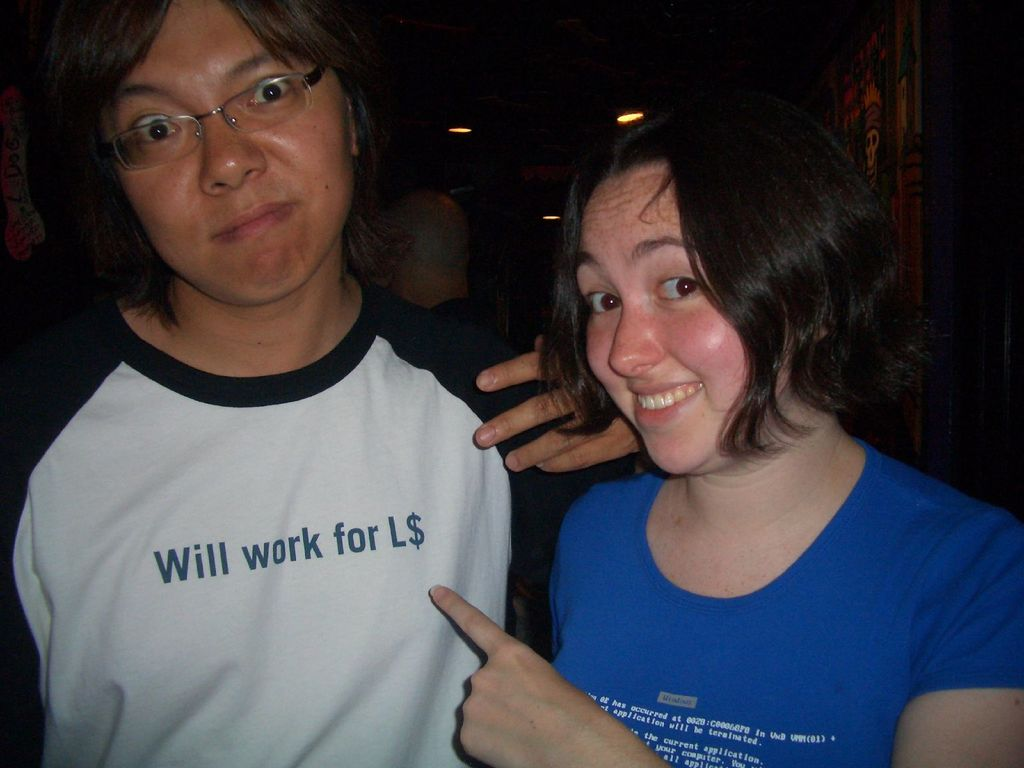Human_hand: (432, 593, 594, 760), (470, 335, 641, 472)
